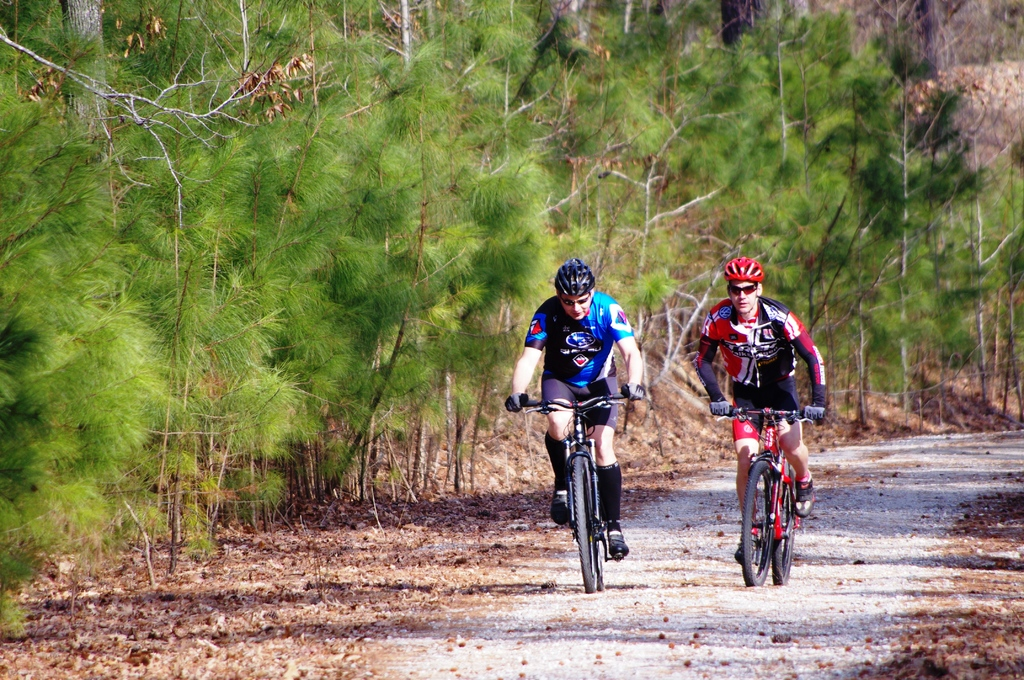Bike_toward: (504, 387, 643, 592), (706, 396, 825, 587)
